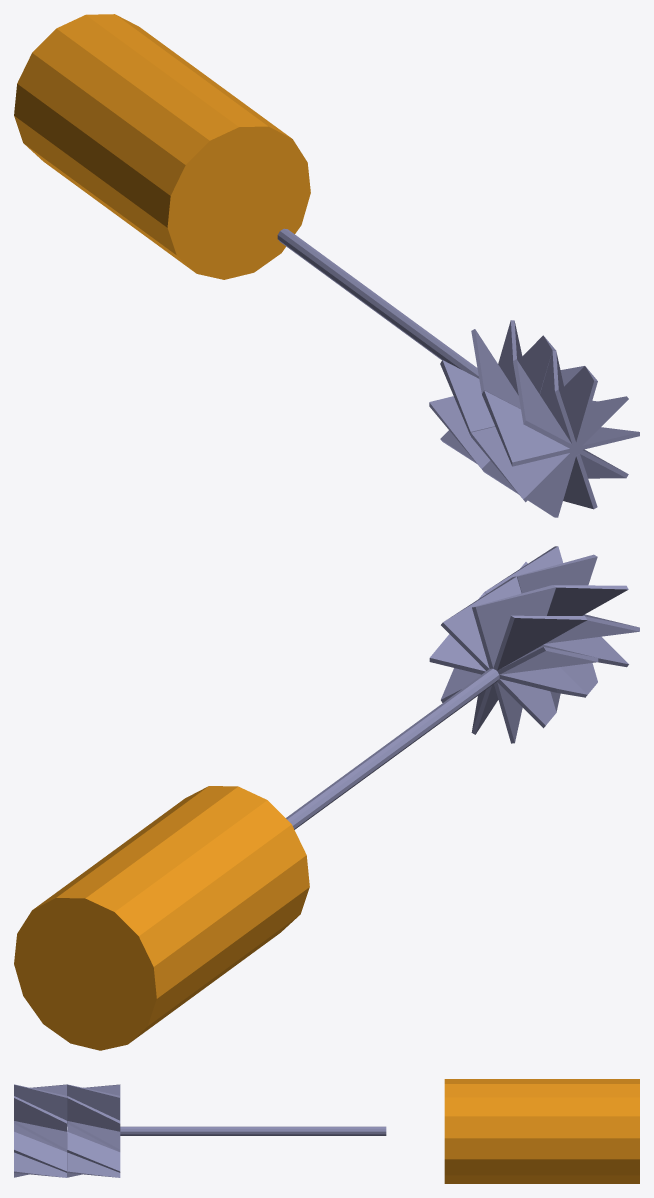
Rendered from turbine.glb.
3 renders of one model, top to bottom at view 1: azimuth 30°, elevation 25°; view 2: azimuth 150°, elevation 25°; view 3: azimuth 270°, elevation 25°, orthographic. The views are drawn at different scales.
Visible parts, largest first — view 1: Cylinder.004, Cylinder; view 2: Cylinder.004, Cylinder; view 3: Cylinder.004, Cylinder.
Part boxes in pixels (x1,y1,x2,y2): Cylinder.004: (14, 14, 310, 279); Cylinder: (277, 228, 639, 517); Cylinder.004: (14, 786, 309, 1050); Cylinder: (286, 546, 639, 829); Cylinder.004: (444, 1079, 639, 1183); Cylinder: (14, 1084, 386, 1177).
Bounding box in the file's own units: 1.99 × 1.98 × 11.82.
